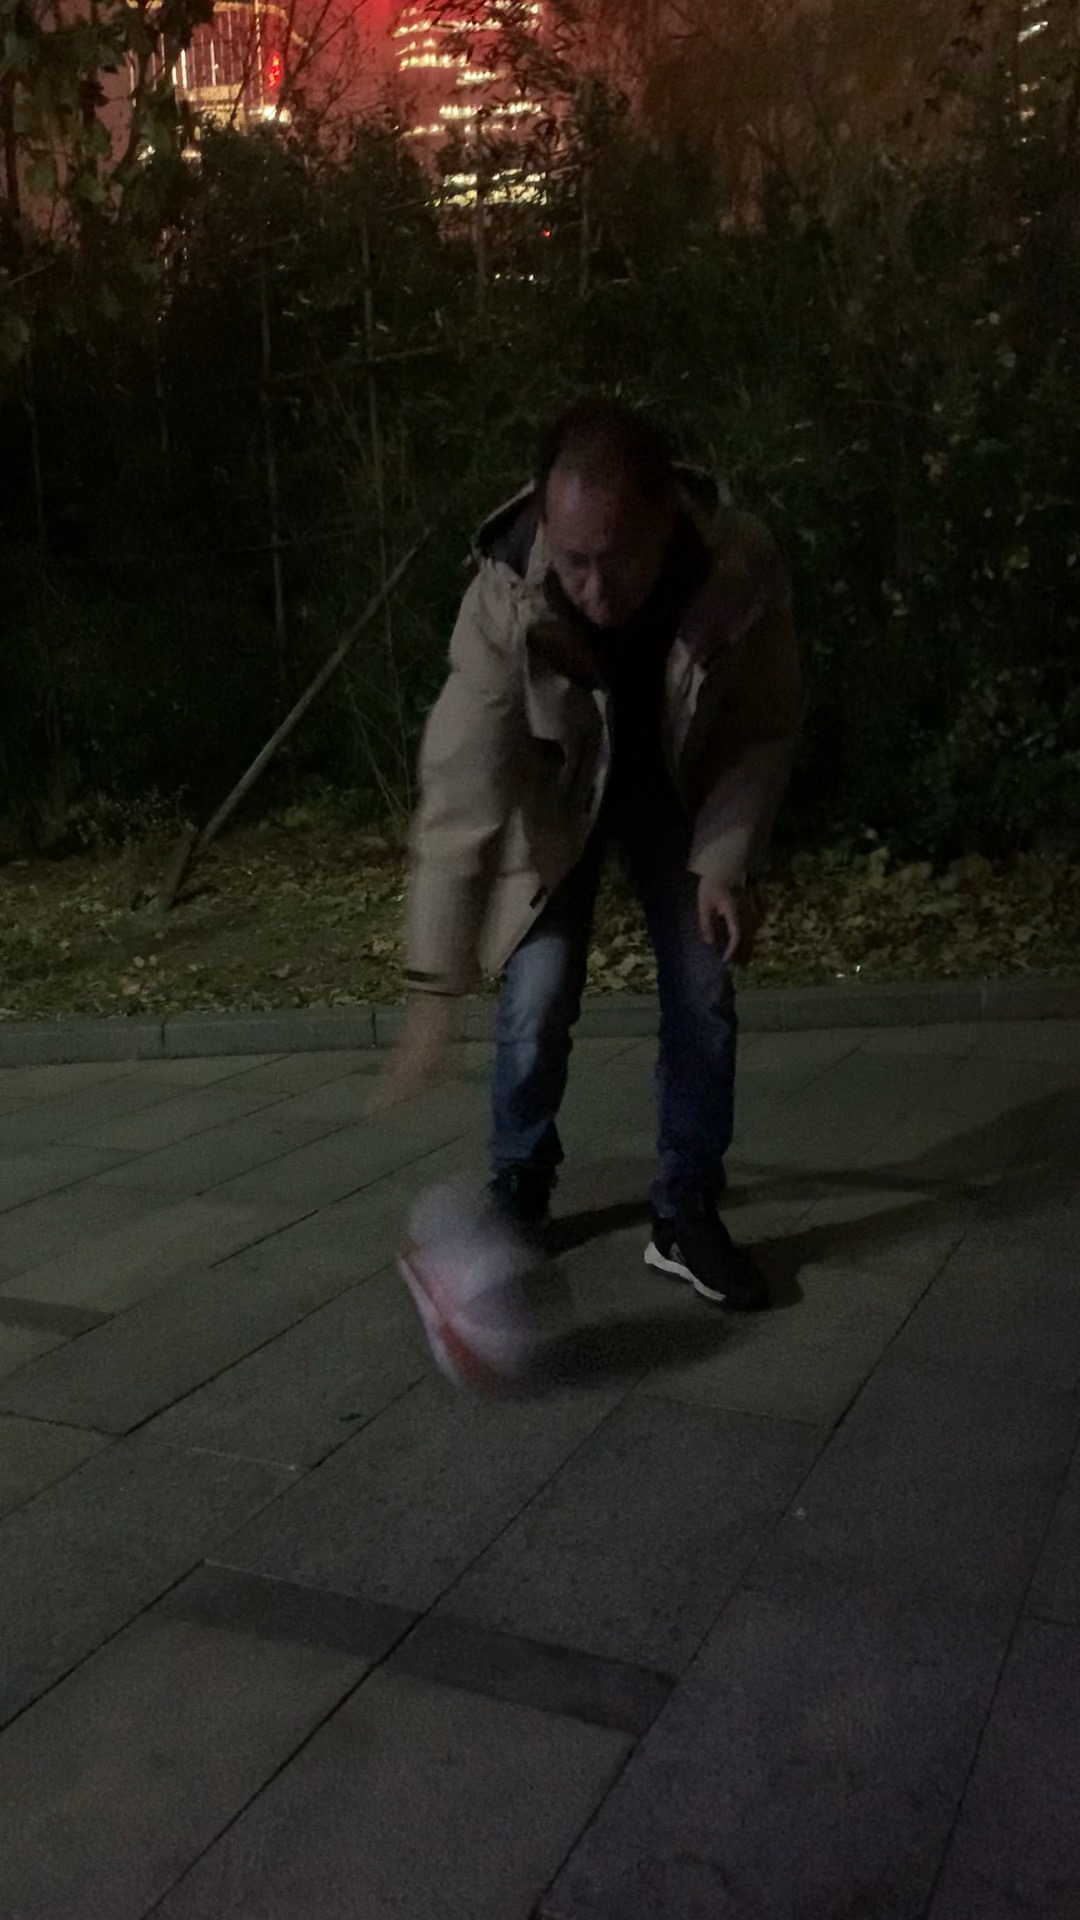ball: (427, 1240, 583, 1389)
